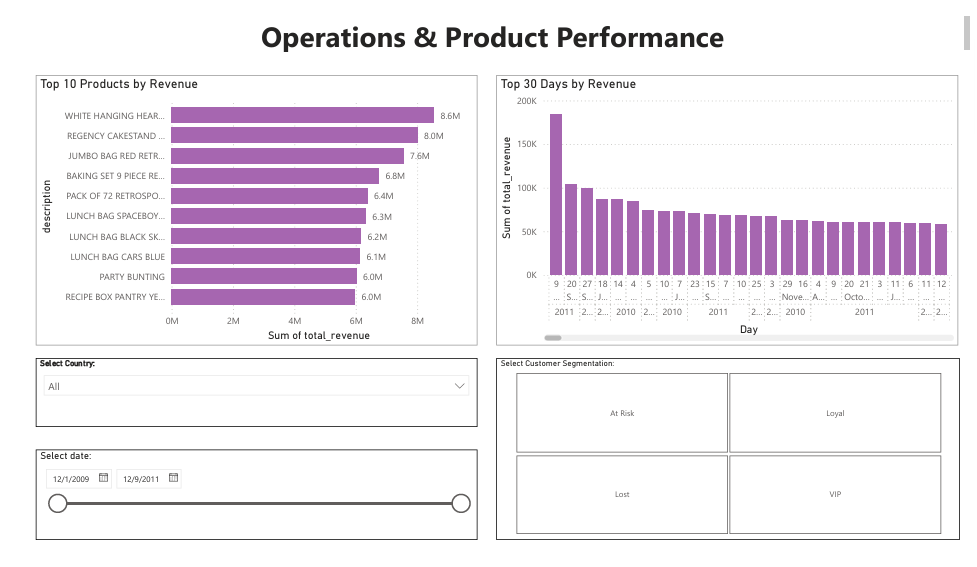

The page's visual inventory and layout, read from the dashboard file:
{"tool":"powerbi","page":{"name":"Page 3","canvas":[1280,720],"ordinal":2},"visuals":[{"type":"textbox","box":[0,0,1280,56.6],"z":0},{"type":"clusteredBarChart","title":"Top 10 Products by Revenue","fields":{"Category":["public stg_retail.description"],"Y":["Sum(public fct_orders.total_revenue)"]},"box":[25.5,83.3,590.2,361.1],"z":1000},{"type":"clusteredColumnChart","title":"Top 30 Days by Revenue","fields":{"Y":["Sum(public fct_orders.total_revenue)"],"Category":["public fct_orders.invoice_date.Variation.Date Hierarchy.Year","public fct_orders.invoice_date.Variation.Date Hierarchy.Month","public fct_orders.invoice_date.Variation.Date Hierarchy.Day"]},"box":[641.2,83.3,618,361.1],"z":2000},{"type":"slicer","title":"Select Country:","fields":{"Values":["public dim_customers.country"]},"box":[25.5,460.6,590.2,92.6],"z":3000},{"type":"slicer","title":"Select date:","fields":{"Values":["public fct_orders.invoice_date"]},"box":[25.5,583.3,590.2,120.4],"z":4000},{"type":"slicer","title":"Select Customer Segmentation:","fields":{"Values":["public dim_customers.segment"]},"box":[641.2,460.6,620.3,243],"z":5000}]}

Visuals, with their boxes on the page's 1280x720 design canvas (x1, y1, x2, y2). These are canvas units, not pixel positions in the 977x567 screenshot, which may show the page scaled, cropped or inside an application window:
textbox: 0, 0, 1280, 57
"Top 10 Products by Revenue" clusteredBarChart: 26, 83, 616, 444
"Top 30 Days by Revenue" clusteredColumnChart: 641, 83, 1259, 444
"Select Country:" slicer: 26, 461, 616, 553
"Select date:" slicer: 26, 583, 616, 704
"Select Customer Segmentation:" slicer: 641, 461, 1262, 704
